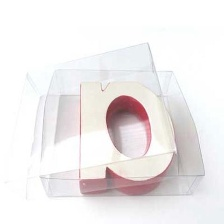plastic_box: (13, 36, 213, 207)
